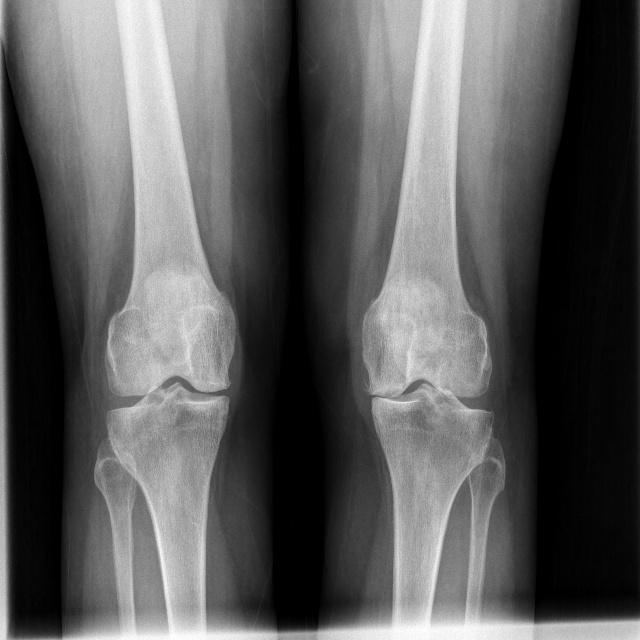Knee: (357, 337, 495, 466), (102, 336, 233, 456)
